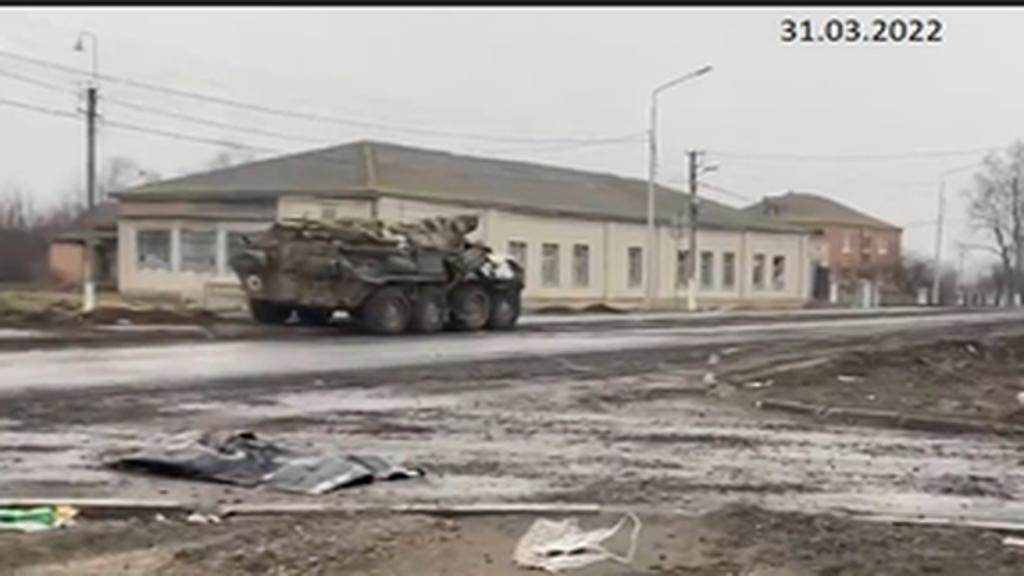APC-IFV: (216, 196, 532, 342)
